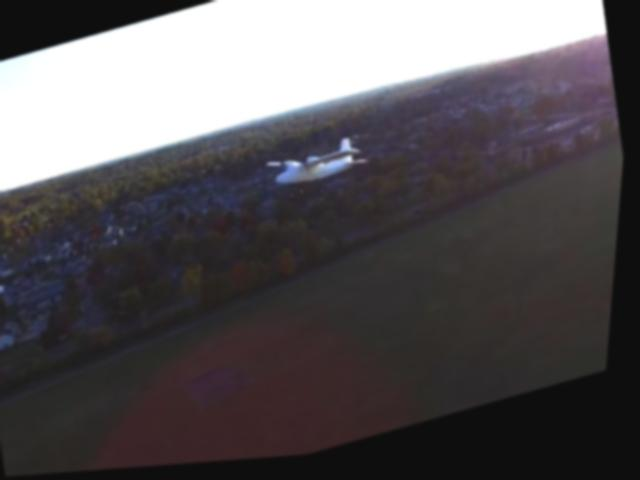uav: (264, 135, 376, 201)
